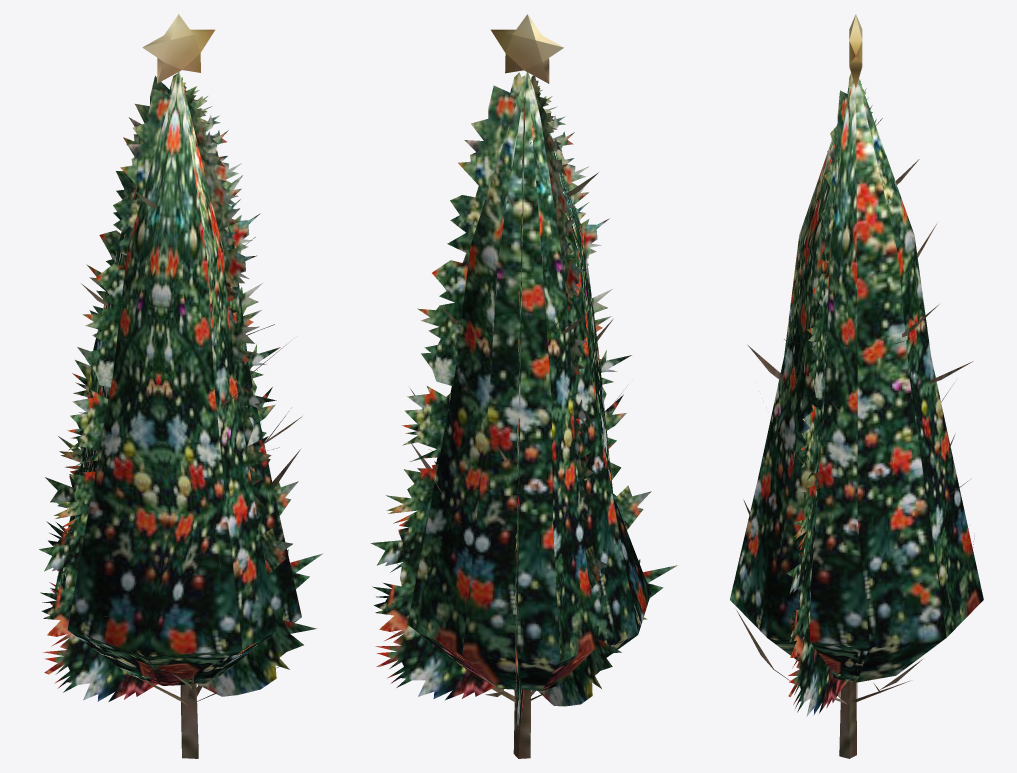
The model's file is cay-thong-01.glb.
The picture shows the model from 3 angles, left to right: view 1: azimuth 30°, elevation 25°; view 2: azimuth 150°, elevation 25°; view 3: azimuth 270°, elevation 25°; orthographic projection.
Parts seen in each view (by area): view 1: CayThong01; view 2: CayThong01; view 3: CayThong01.
Boxes of the visible parts, x1,y1,x2,y2 form: CayThong01: (39,14,323,758); CayThong01: (370,14,678,758); CayThong01: (730,14,983,758).
Size of the model in its own units: 1.28 by 3.18 by 1.16.
1 material, 1 textured.
